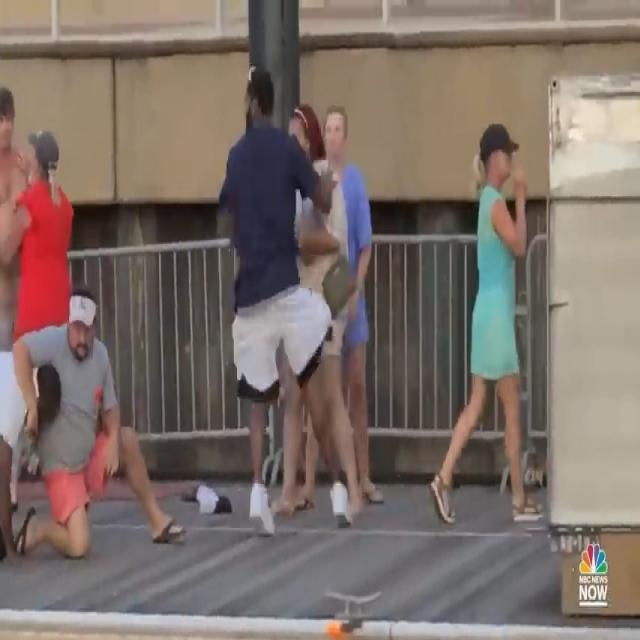fight: (2, 289, 196, 559)
non-fight: (216, 37, 392, 539), (427, 117, 544, 525)
